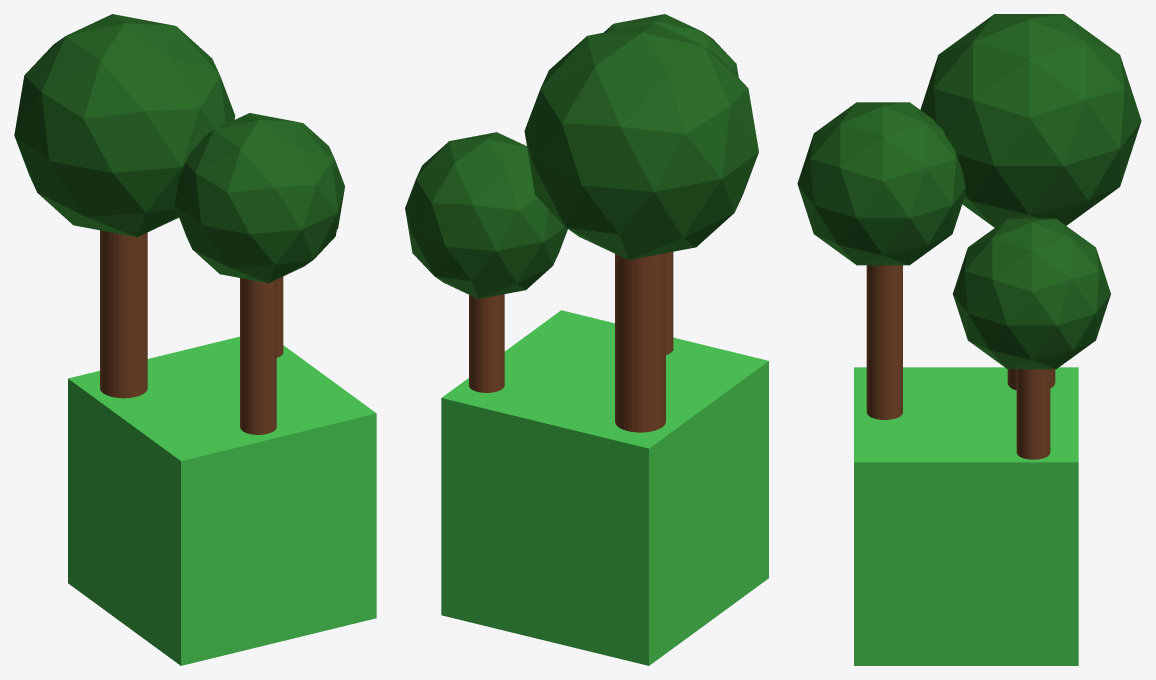
Rendered from Tile(LAND, TREES).fbx.
The picture shows the model from 3 angles, left to right: view 1: azimuth 30°, elevation 25°; view 2: azimuth 150°, elevation 25°; view 3: azimuth 270°, elevation 25°; orthographic projection. The views are drawn at different scales.
Visible parts, largest first — view 1: Tile(Land)_Cube.000, Cylinder; view 2: Tile(Land)_Cube.000, Cylinder; view 3: Cylinder, Tile(Land)_Cube.000.
Part boxes in pixels (<box>): Tile(Land)_Cube.000: <box>68,336,376,665</box>; Cylinder: <box>14,14,344,434</box>; Tile(Land)_Cube.000: <box>441,310,768,665</box>; Cylinder: <box>405,14,758,432</box>; Cylinder: <box>797,14,1141,459</box>; Tile(Land)_Cube.000: <box>854,367,1078,665</box>.
Bounding box in the file's own units: 309 × 557 × 306.
